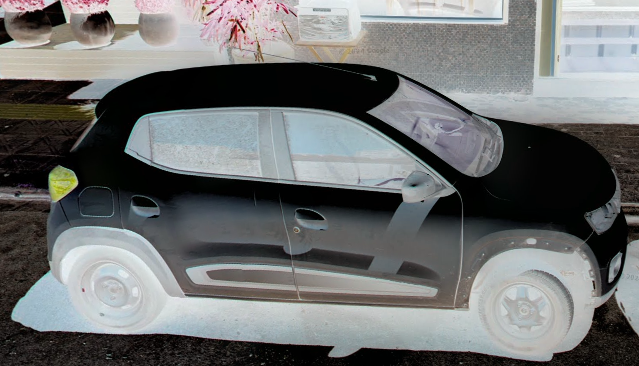car: (45, 62, 627, 353)
